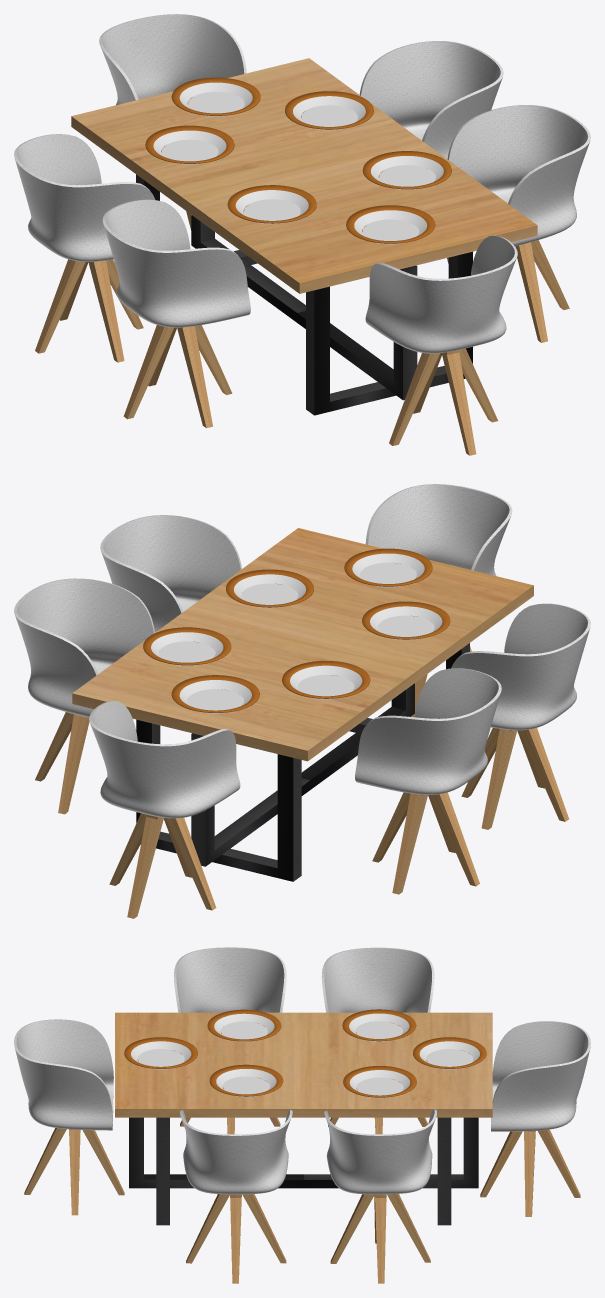
File: comedor.fbx
3 renders of one model, top to bottom at view 1: azimuth 30°, elevation 25°; view 2: azimuth 150°, elevation 25°; view 3: azimuth 270°, elevation 25°, orthographic. The views are drawn at different scales.
Parts seen in each view (by area): view 1: Cube, Cube.001, Cube.006, Cube.011, Cube.007, Cube.004, Cube.009, Plane.003, Plane.004, Cube.012, Cube.002, Cube.003 (+7 smaller); view 2: Cube, Cube.004, Cube.007, Cube.009, Cube.006, Cube.001, Cube.011, Plane.003, Plane.004, Cube.010, Cube.003, Cube.002 (+7 smaller); view 3: Cube, Cube.011, Cube.009, Cube.001, Cube.004, Cube.007, Cube.006, Plane.004, Plane.003, Cube.008, Cube.005, Cube.010 (+7 smaller).
Part boxes in pixels (bbox=[...]): Cube: bbox=[71, 58, 537, 293]; Cube.001: bbox=[102, 199, 250, 327]; Cube.006: bbox=[447, 105, 590, 246]; Cube.011: bbox=[365, 235, 517, 353]; Cube.007: bbox=[359, 41, 503, 158]; Cube.004: bbox=[14, 134, 155, 261]; Cube.009: bbox=[99, 14, 246, 104]; Plane.003: bbox=[136, 174, 472, 415]; Plane.004: bbox=[191, 215, 417, 400]; Cube.012: bbox=[389, 348, 498, 455]; Cube.002: bbox=[123, 325, 232, 428]; Cube.003: bbox=[35, 259, 143, 362]; Cube: bbox=[72, 528, 533, 761]; Cube.004: bbox=[355, 668, 501, 794]; Cube.007: bbox=[14, 578, 154, 717]; Cube.009: bbox=[89, 701, 240, 818]; Cube.006: bbox=[100, 515, 241, 632]; Cube.001: bbox=[451, 603, 590, 730]; Cube.011: bbox=[365, 484, 512, 575]; Plane.003: bbox=[136, 643, 469, 881]; Plane.004: bbox=[191, 683, 414, 866]; Cube.010: bbox=[109, 813, 216, 918]; Cube.003: bbox=[372, 792, 479, 894]; Cube.002: bbox=[461, 728, 568, 829]; Cube: bbox=[115, 1012, 492, 1117]; Cube.011: bbox=[14, 1019, 113, 1130]; Cube.009: bbox=[491, 1021, 590, 1131]; Cube.001: bbox=[174, 947, 286, 1012]; Cube.004: bbox=[321, 947, 434, 1012]; Cube.007: bbox=[324, 1109, 436, 1194]; Cube.006: bbox=[180, 1110, 292, 1194]; Plane.004: bbox=[129, 1117, 478, 1188]; Plane.003: bbox=[156, 1117, 451, 1225]; Cube.008: bbox=[330, 1194, 430, 1283]; Cube.005: bbox=[186, 1194, 286, 1283]; Cube.010: bbox=[480, 1129, 580, 1216].
Size of the model in its own units: 620 by 234 by 802.
28 materials, 21 textured.
